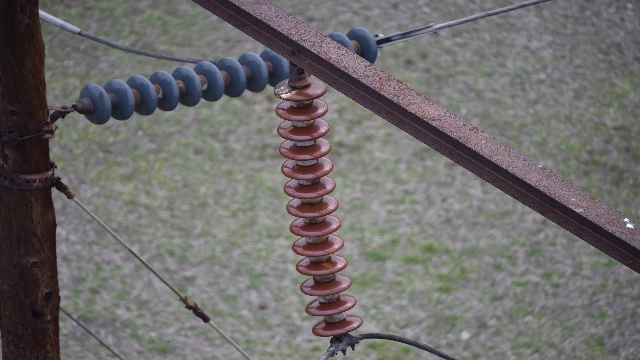insulator_unspecified: (79, 26, 377, 125), (273, 77, 363, 335)
pollution_flashover_local: (273, 80, 298, 98), (318, 262, 333, 269)
